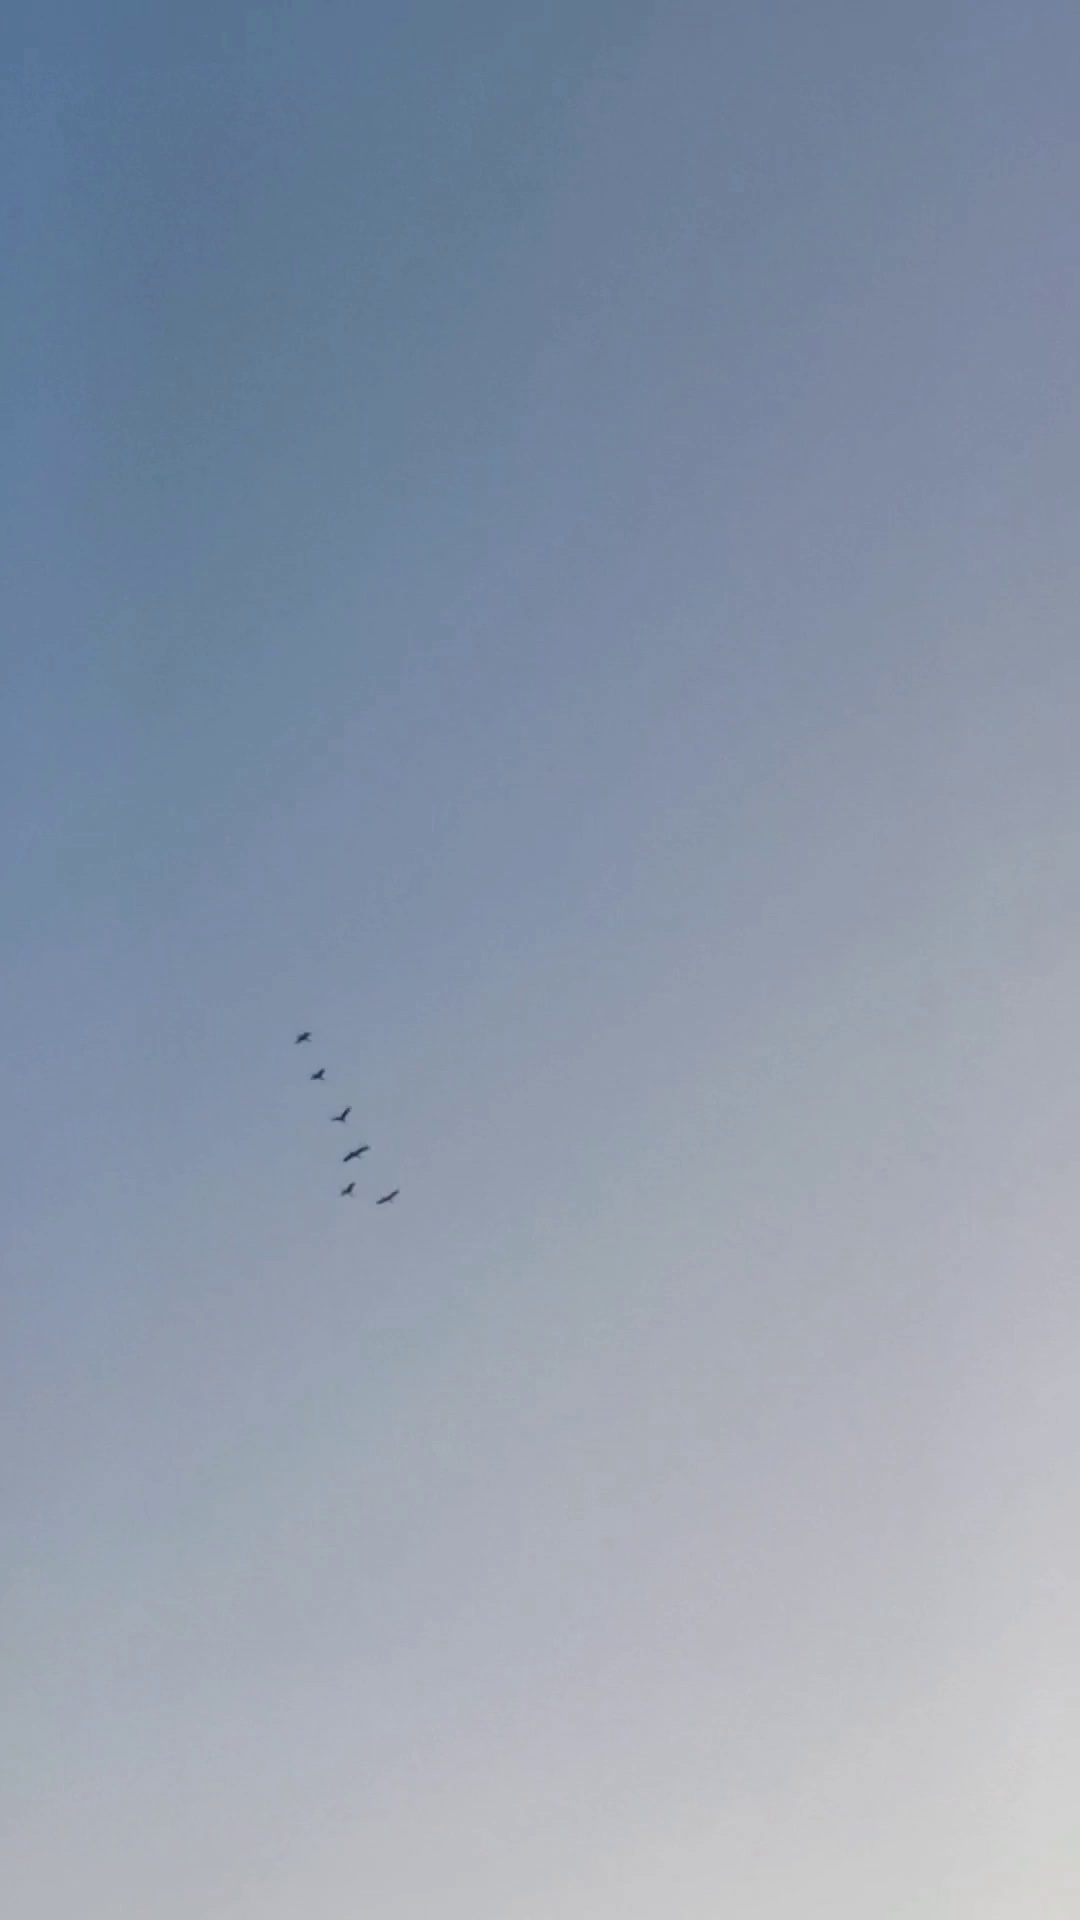bird: (343, 1146, 369, 1162), (375, 1188, 398, 1204), (332, 1106, 353, 1124), (293, 1033, 314, 1048), (339, 1180, 353, 1197), (310, 1068, 327, 1083)
